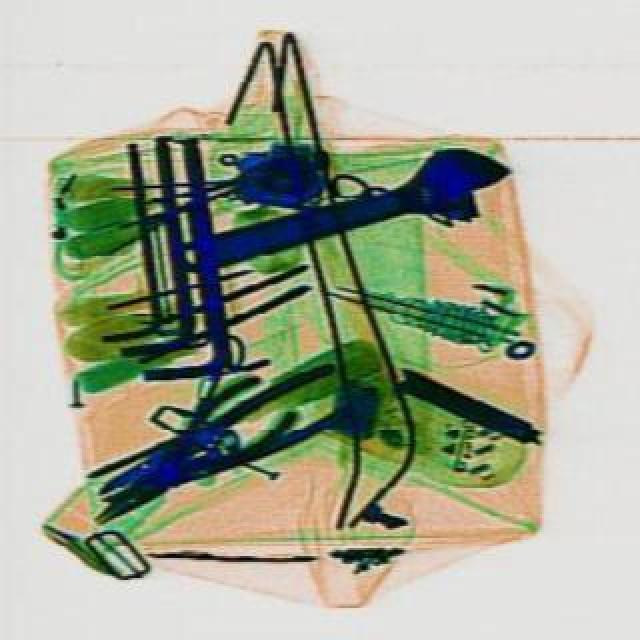scissors: (158, 130, 518, 302)
wrench: (80, 356, 358, 526), (68, 362, 300, 550)
